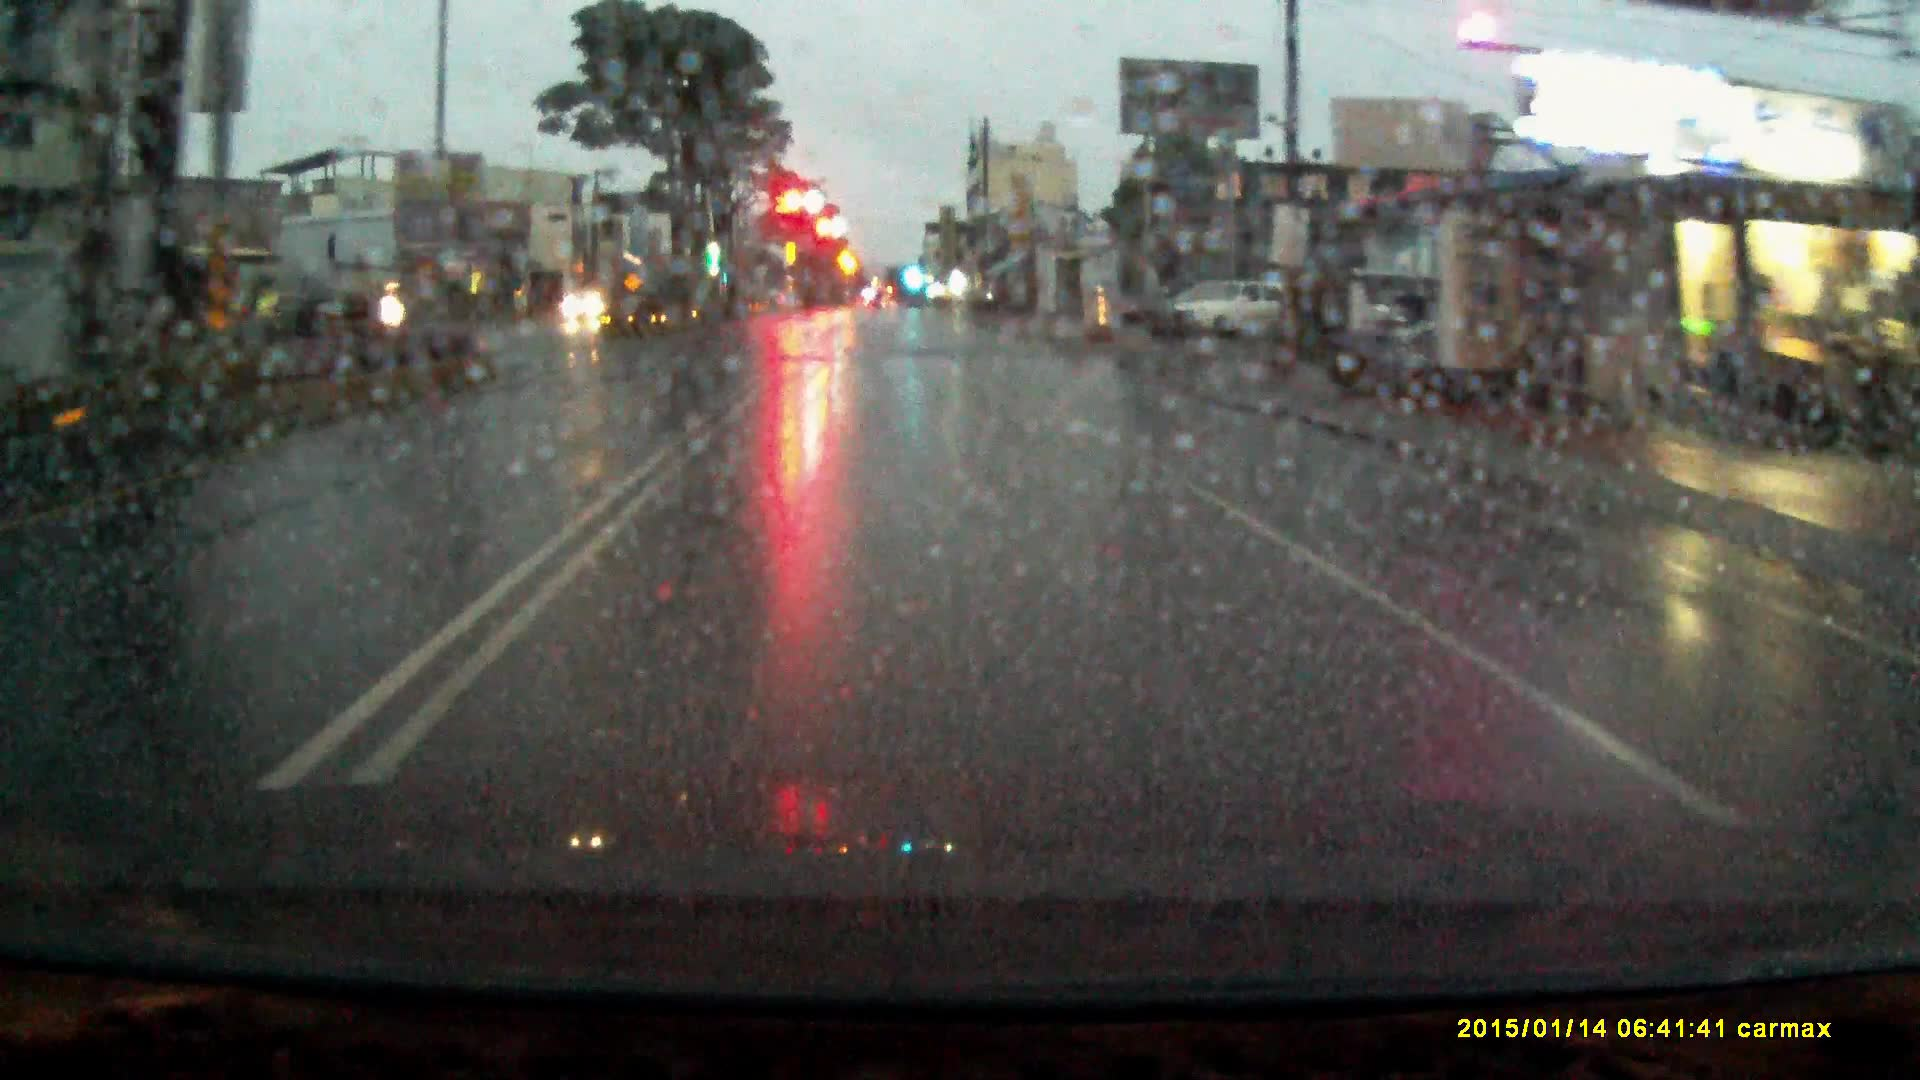vehicle: (1172, 284, 1309, 348), (563, 295, 615, 331)
